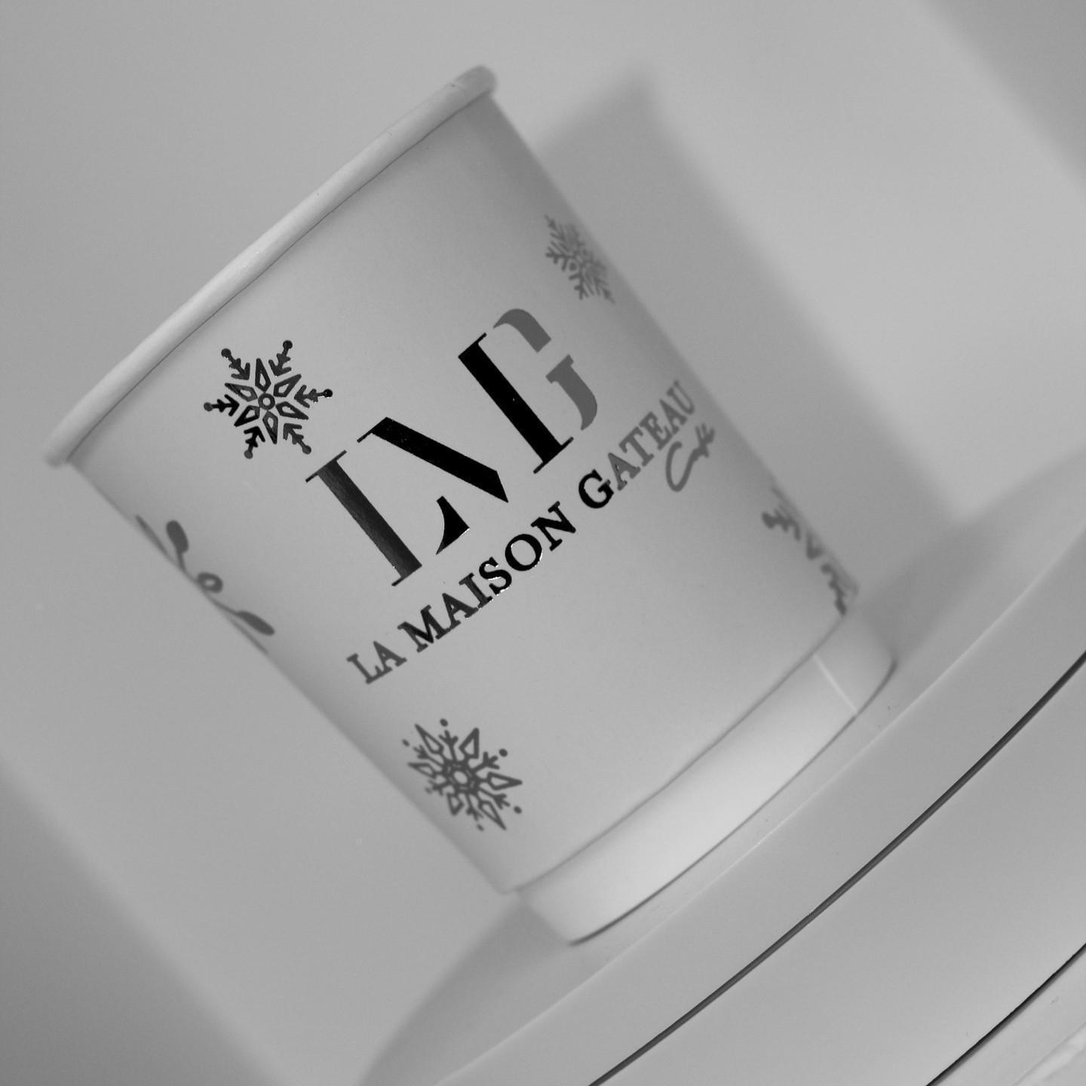cup-disposable: (6, 51, 907, 954)
